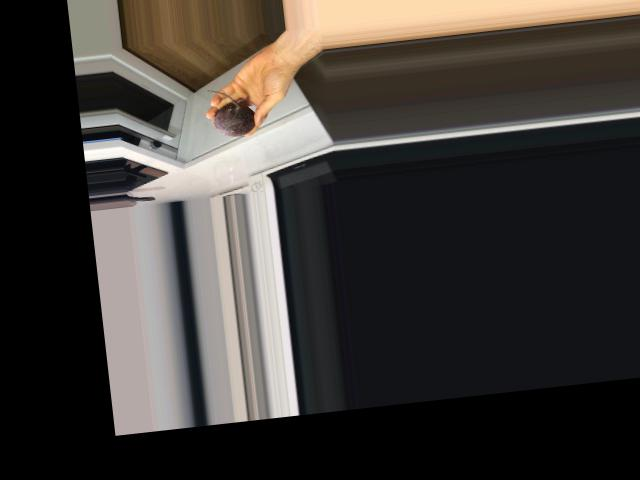beet: (205, 85, 256, 139)
